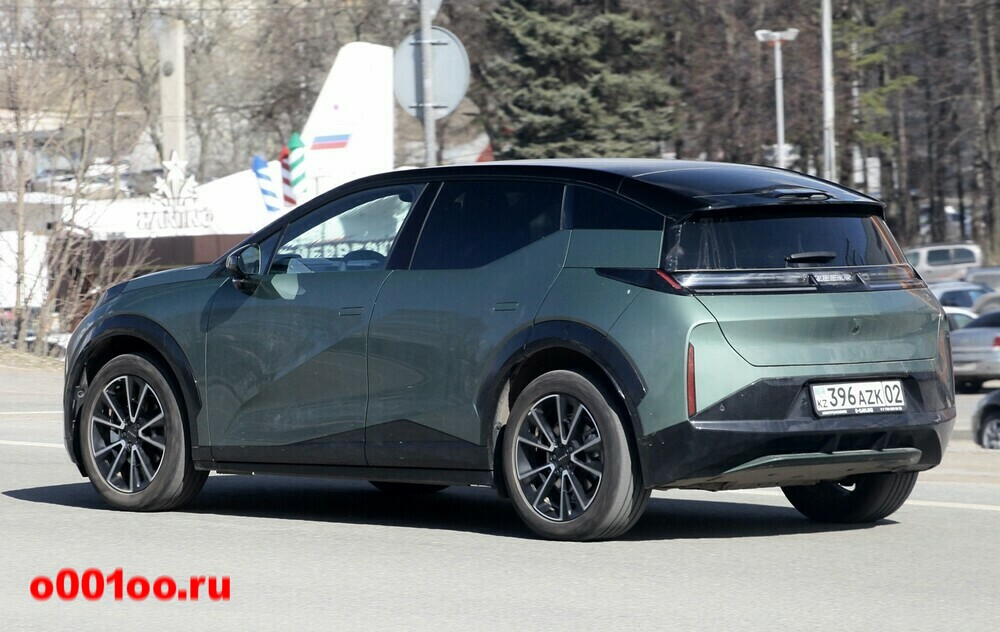license_plate: (810, 381, 906, 411)
